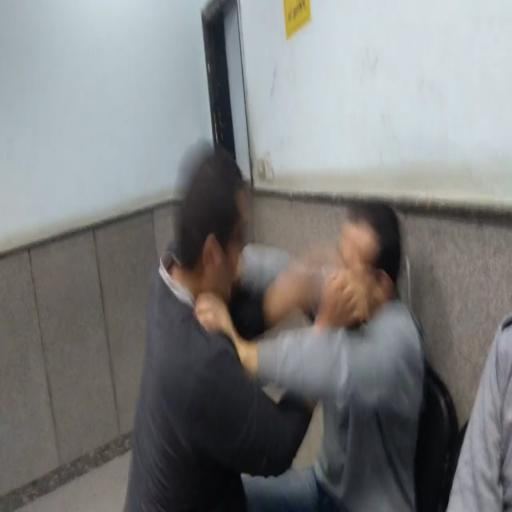violencia: (114, 128, 428, 512)
